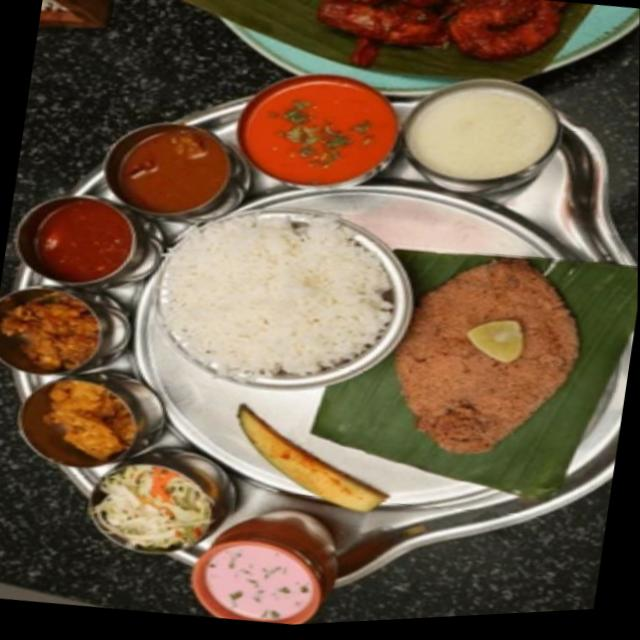BANANA: (236, 406, 385, 512)
CHAPATHI: (395, 259, 576, 453)
CURD: (189, 510, 337, 625)
CURRY: (14, 196, 160, 286), (0, 287, 130, 376)
RASAM: (107, 127, 237, 218)
RICE: (157, 212, 407, 385)
SAMBAR: (236, 76, 398, 187)
SWEET: (401, 79, 558, 194)
VEGGIES: (90, 465, 213, 550), (41, 381, 135, 460)
